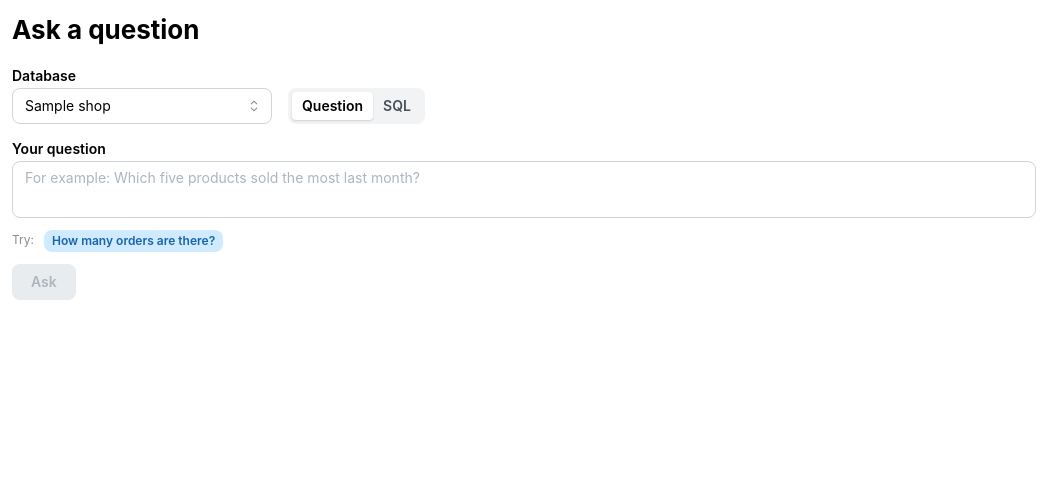
Test case: AskPage › shows the clarifying question for an ambiguous question, and says nothing ran
In the text box labelled "Your question": (524, 189) [12,161,1036,218], type "How many orders per region?"
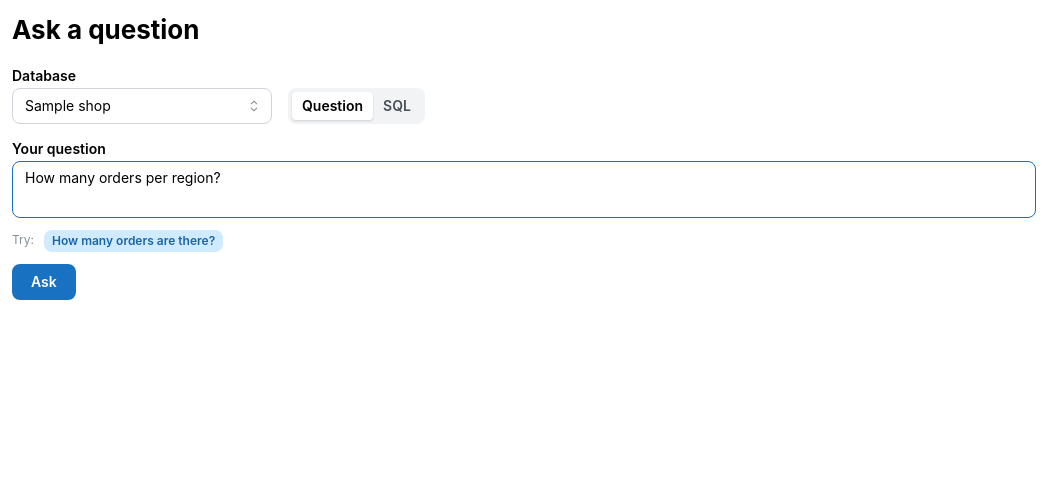
Click the button "Ask": click(44, 282) [12,264,76,300]
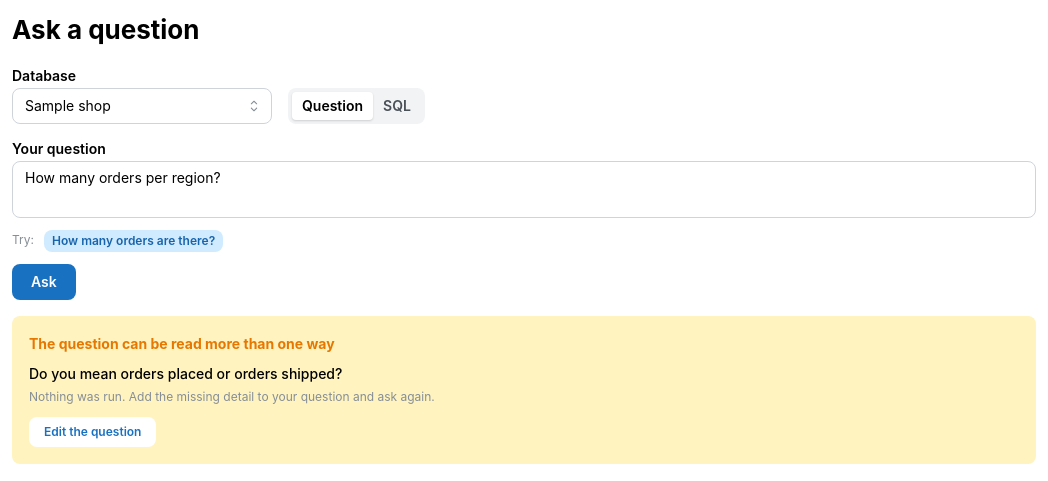
Expected: the text "Do you mean orders placed or orders shipped?" is shown, [29,365,342,382]
Expected: the text "Nothing was run" is shown, [29,389,435,404]
